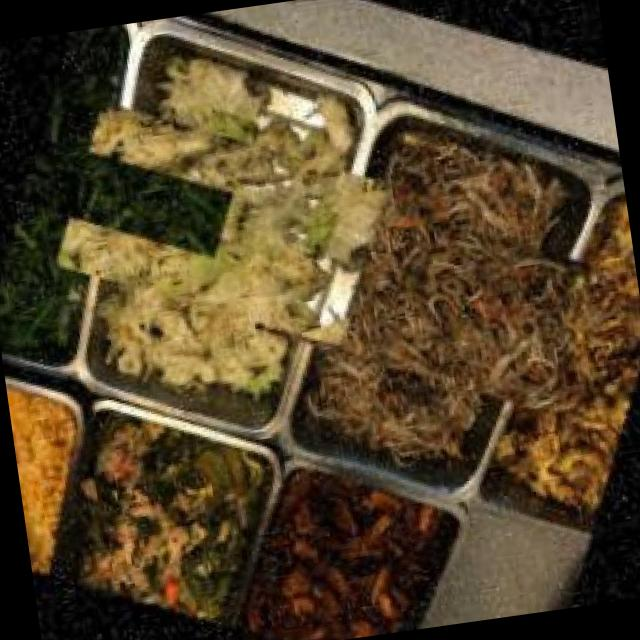chinese_cabbage: (42, 47, 402, 406)
mung_bean_sprouts: (248, 120, 598, 470)
water_spinach: (0, 54, 215, 326)
